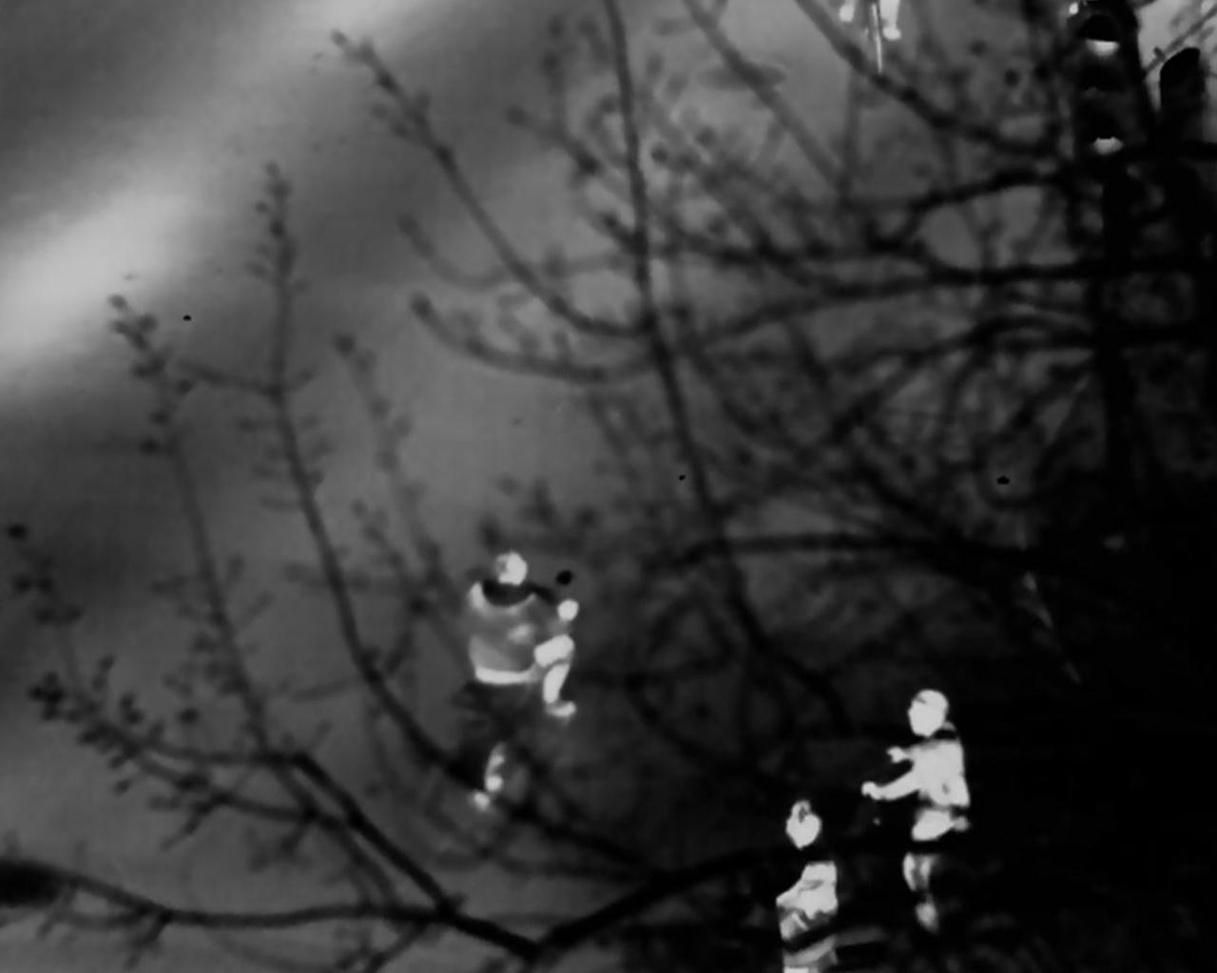person: (464, 544, 581, 746), (875, 681, 976, 891), (773, 803, 849, 965)
